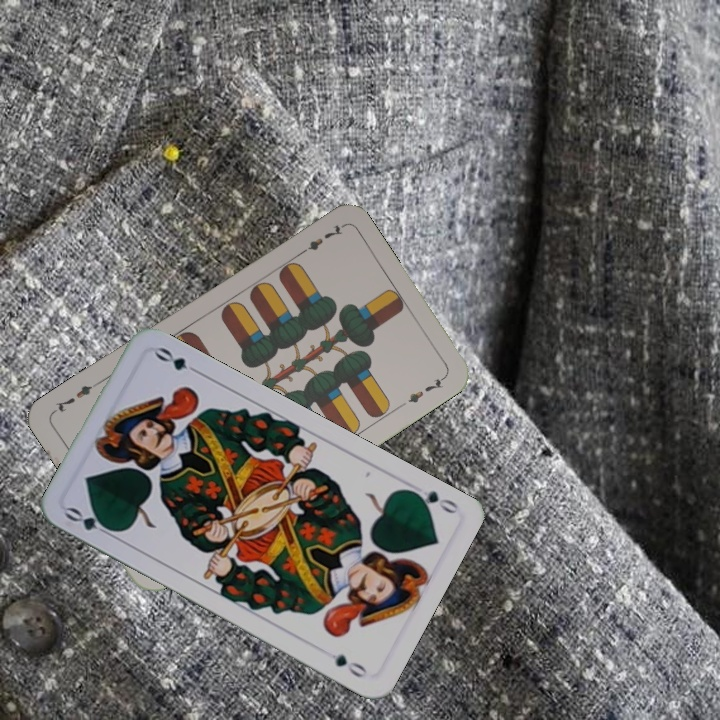E7: (293, 221, 345, 259)
GO: (61, 503, 119, 540), (403, 485, 462, 517)
